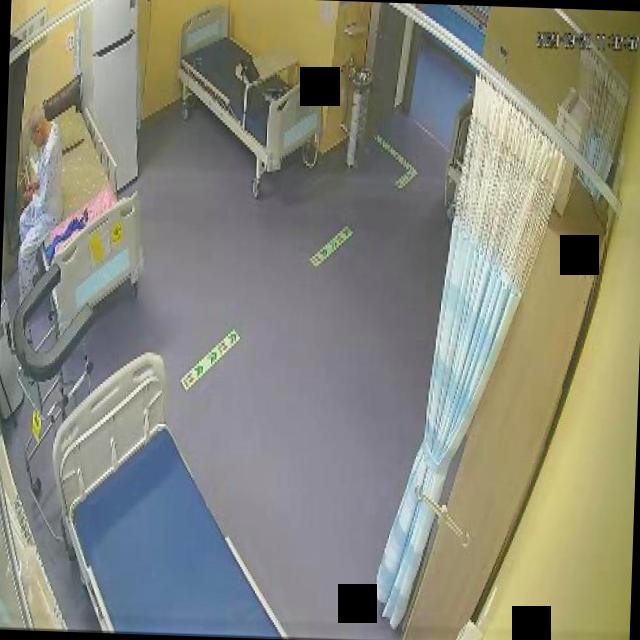bed: (43, 346, 293, 639), (14, 90, 148, 320), (176, 3, 328, 171)
patient: (10, 99, 67, 308)
sit: (10, 98, 67, 307)
walker: (8, 266, 95, 542)
